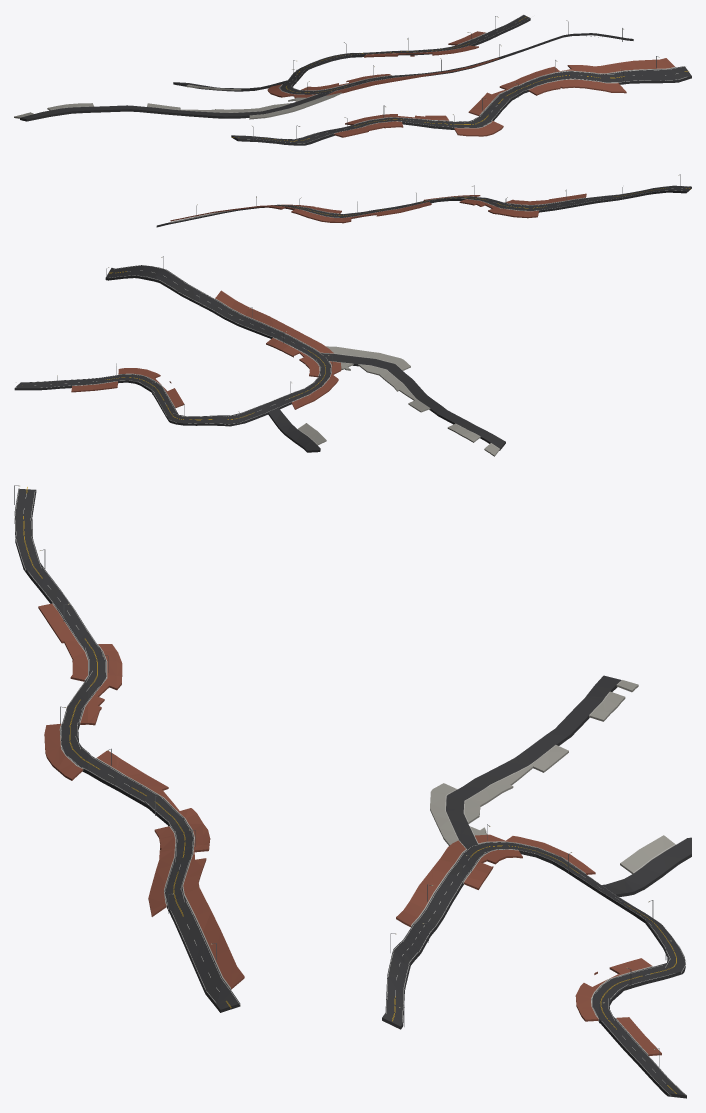
The picture shows the model from 3 angles, top to bottom: view 1: azimuth 30°, elevation 25°; view 2: azimuth 150°, elevation 25°; view 3: azimuth 270°, elevation 25°; orthographic projection. The views are drawn at different scales.
Bounding box in the file's own units: 298 × 102 × 236.
